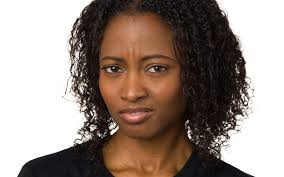black_female: (65, 2, 257, 144)
